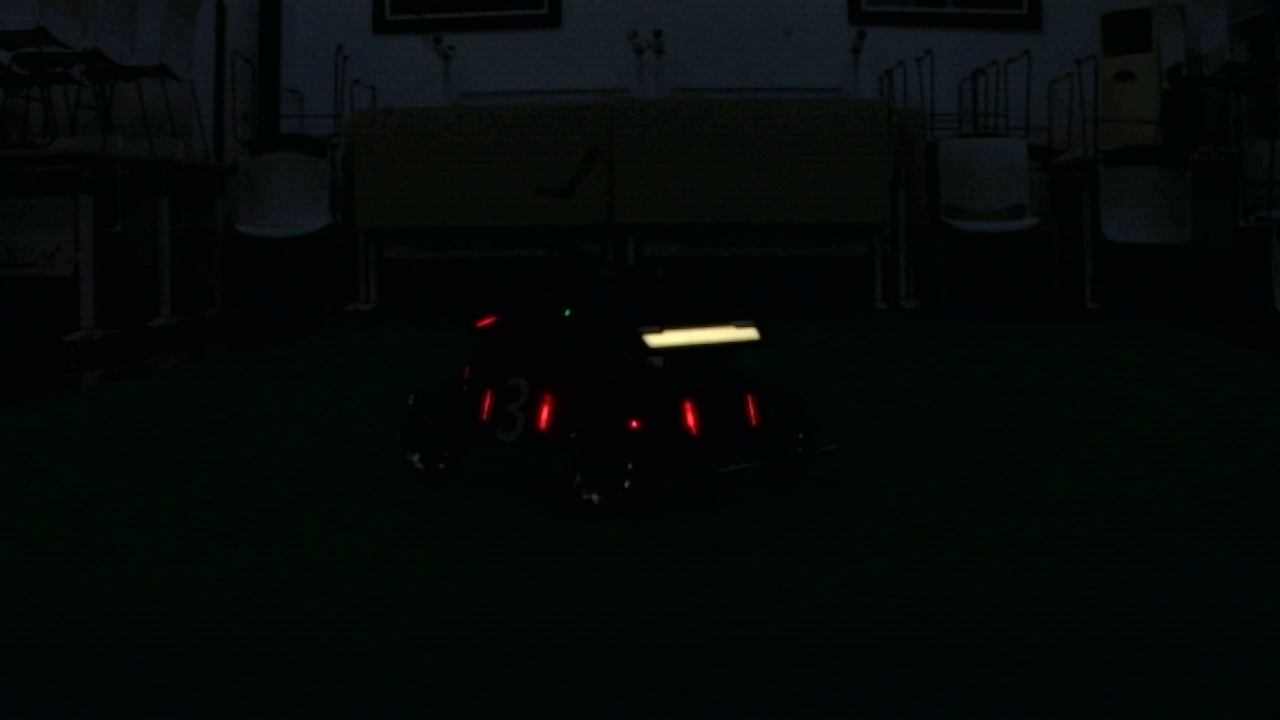lamp: (744, 397, 766, 430), (680, 404, 700, 432), (478, 387, 492, 423), (540, 393, 552, 428)
pair1: (484, 391, 549, 431), (683, 397, 760, 430)
